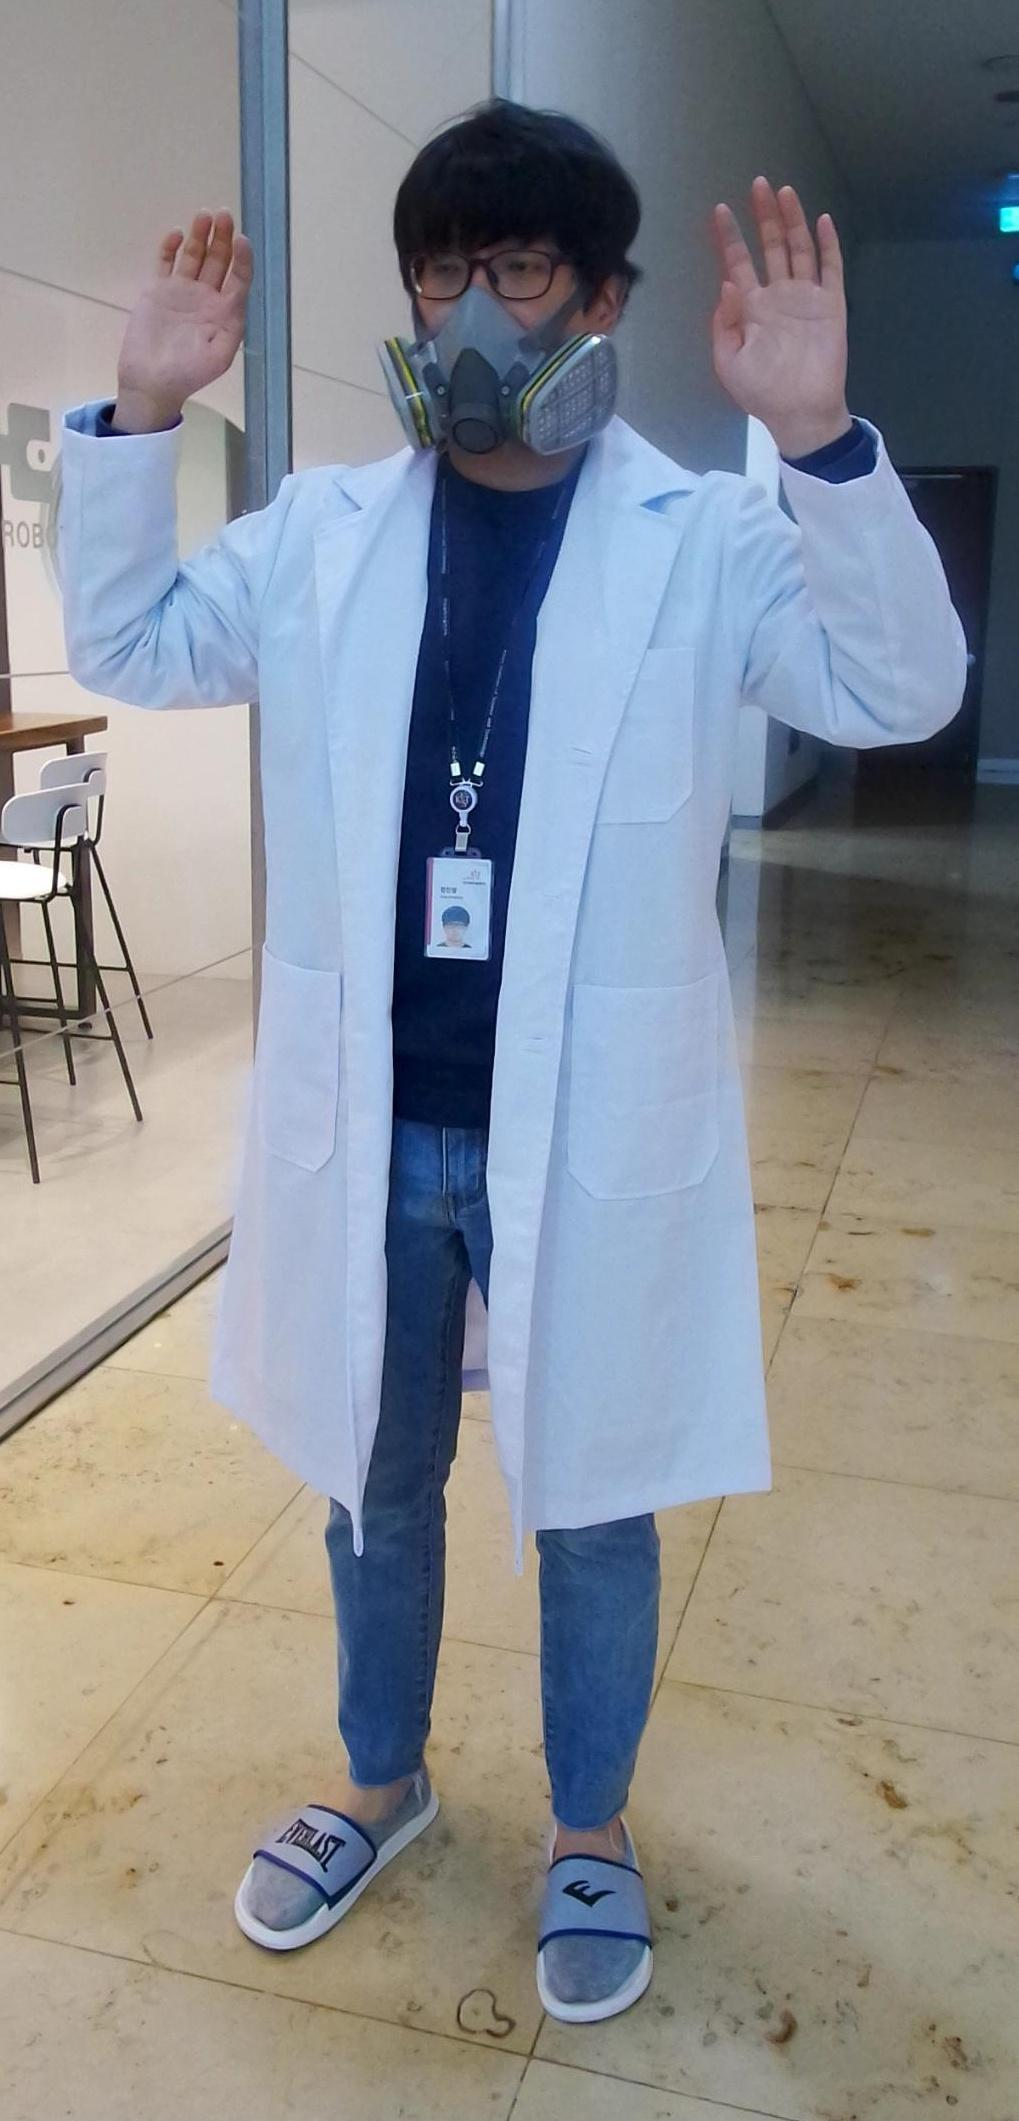lab_coat: (219, 471, 766, 1496)
